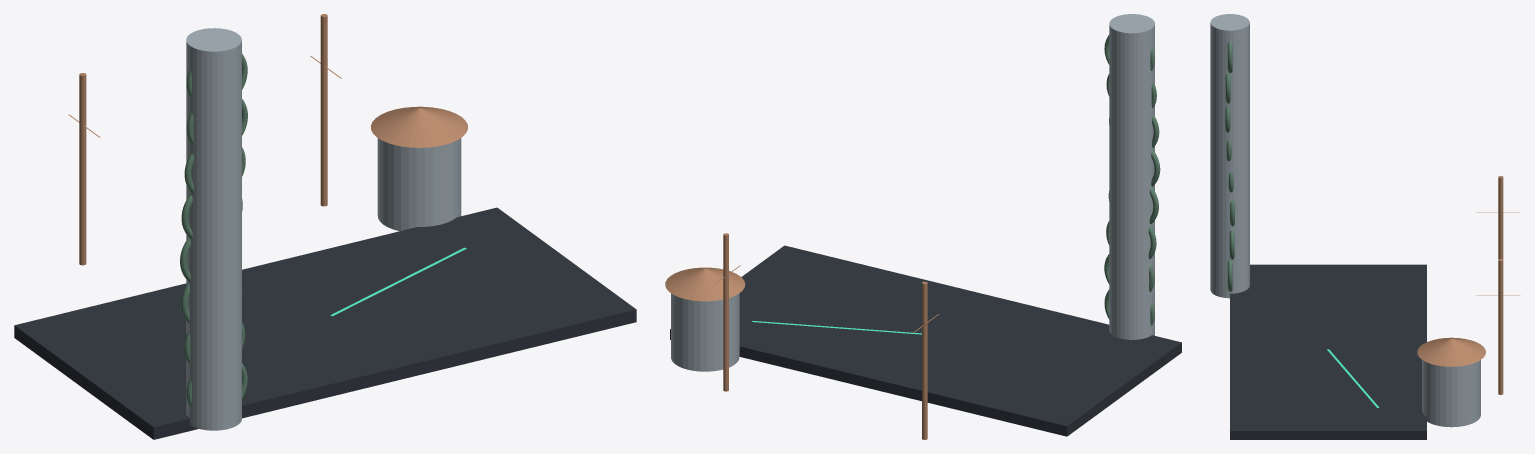
The model's file is rustgarden-scene.glb.
3 views of the same model, side by side, from view 1: azimuth 30°, elevation 25°; view 2: azimuth 150°, elevation 25°; view 3: azimuth 270°, elevation 25° (orthographic). The views are drawn at different scales.
Parts seen in each view (by area): view 1: Rustgarden_Street, Rustgarden_Tower, Rustgarden_Collector, Rustgarden_Funnel, Rustgarden_Pole_L, Rustgarden_Pole_R; view 2: Rustgarden_Street, Rustgarden_Tower, Rustgarden_Collector, Rustgarden_Funnel, Rustgarden_Pole_L, Rustgarden_Pole_R; view 3: Rustgarden_Street, Rustgarden_Tower, Rustgarden_Collector, Rustgarden_Funnel, Rustgarden_Pole_R, Rustgarden_Pole_L.
Part boxes in pixels (x1,y1,x2,y2): Rustgarden_Street: (14,207,636,439); Rustgarden_Tower: (186,28,241,430); Rustgarden_Collector: (377,138,461,231); Rustgarden_Funnel: (370,106,467,147); Rustgarden_Pole_L: (79,73,86,265); Rustgarden_Pole_R: (320,14,327,206); Rustgarden_Street: (670,245,1181,436); Rustgarden_Tower: (1109,14,1154,339); Rustgarden_Collector: (671,293,739,371); Rustgarden_Funnel: (665,267,745,301); Rustgarden_Pole_L: (922,281,927,439); Rustgarden_Pole_R: (723,233,728,391); Rustgarden_Street: (1230,264,1426,439); Rustgarden_Tower: (1210,14,1249,298); Rustgarden_Collector: (1422,360,1480,427); Rustgarden_Funnel: (1417,337,1485,366); Rustgarden_Pole_R: (1498,259,1503,394); Rustgarden_Pole_L: (1498,176,1503,259).
Bounding box in the file's own units: 8 × 6.1 × 6.3.
